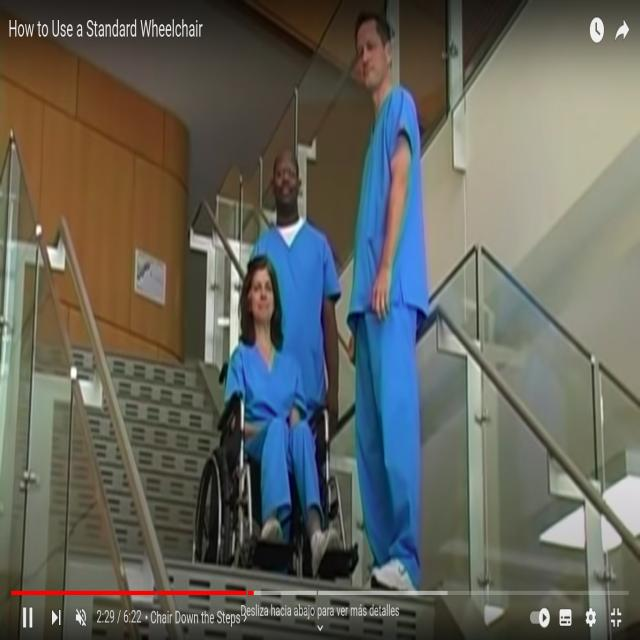wheelchairs: (191, 383, 360, 580)
